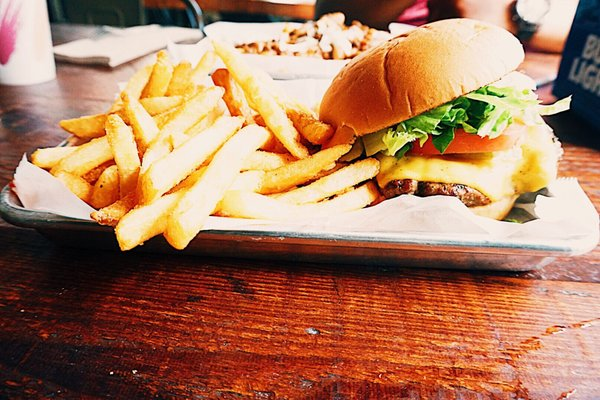soup: (318, 17, 561, 219), (111, 113, 269, 252)
